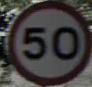Speed limit: (3, 4, 86, 79)
